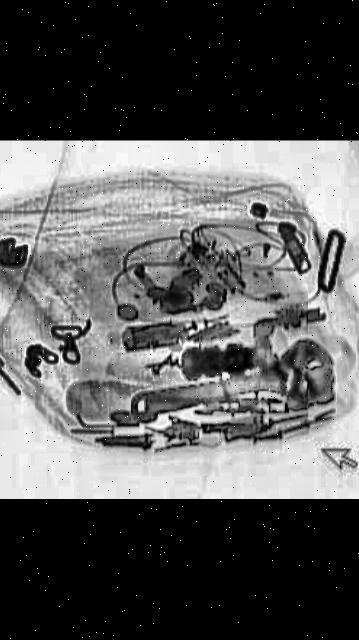Wrench: (108, 335, 347, 438)
